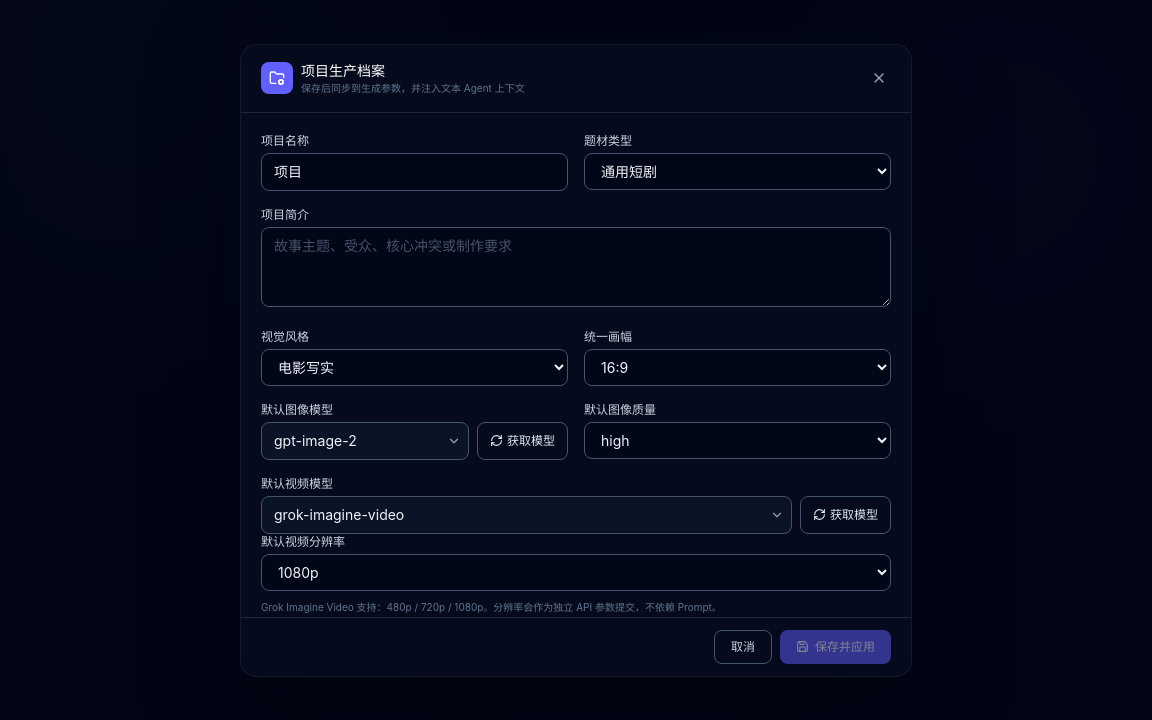
Test case: only offers resolutions supported by the selected video model
This screenshot has width=1152, height=720.
Check: the text "Grok Imagine Video 支持" is shown, box 261,600 -> 722,612
Replace the text in the dropdown labelled "默认视频模型" with "minimax-h3" at (526, 514), box 261,496 -> 792,534
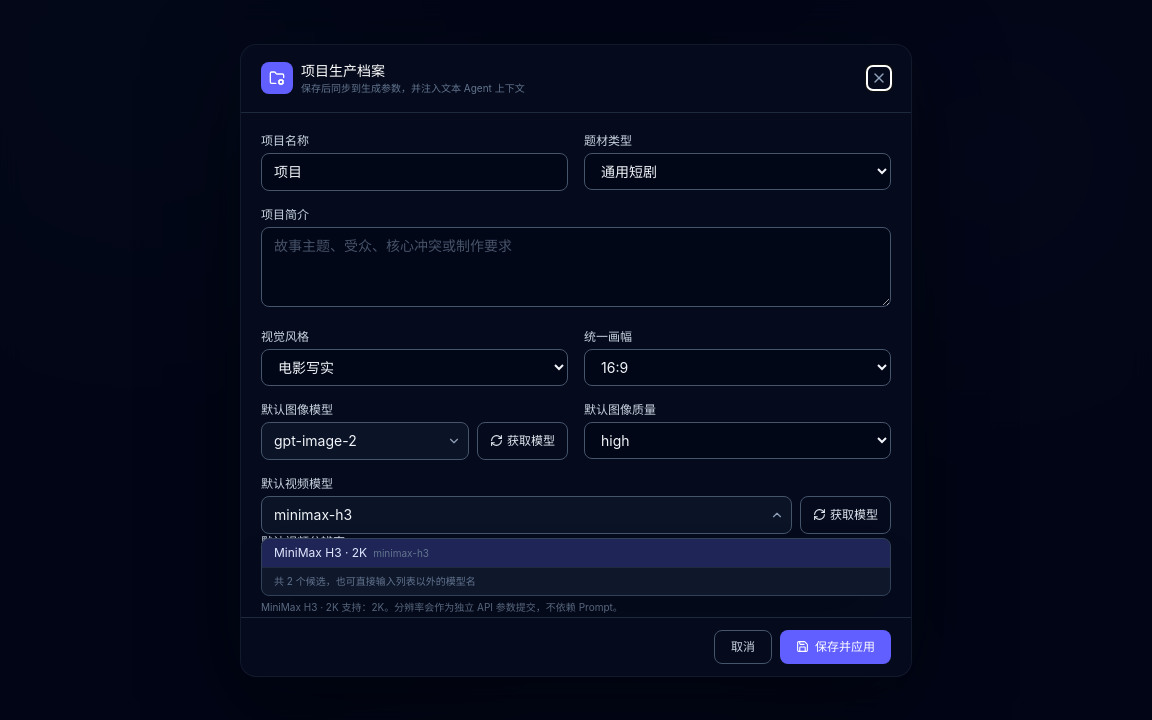
Check: the dropdown labelled "默认视频分辨率" shows "2K", box 261,554 -> 891,590
